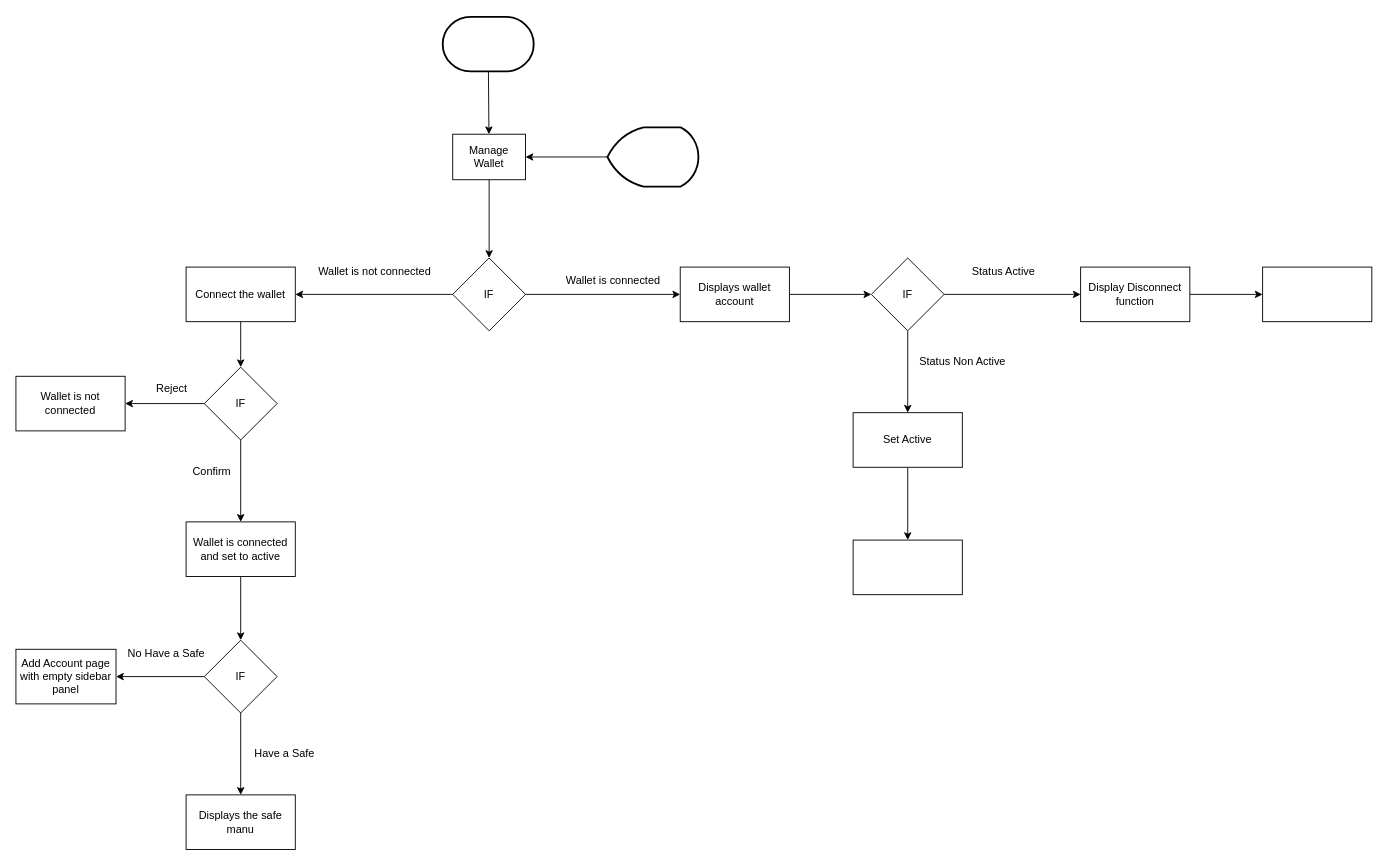
Image size: 1388x865. Some labels were removed from this diagram. The centre of each missing label's shape, as x and y in pixels:
"Pera, Defly, and Wallet connect" belongs at (x=652, y=156).
"Status is Actived" belongs at (x=907, y=567).
"The Connection is Disconnected and display connect status" belongs at (x=1317, y=294).
"User" belongs at (x=487, y=43).
